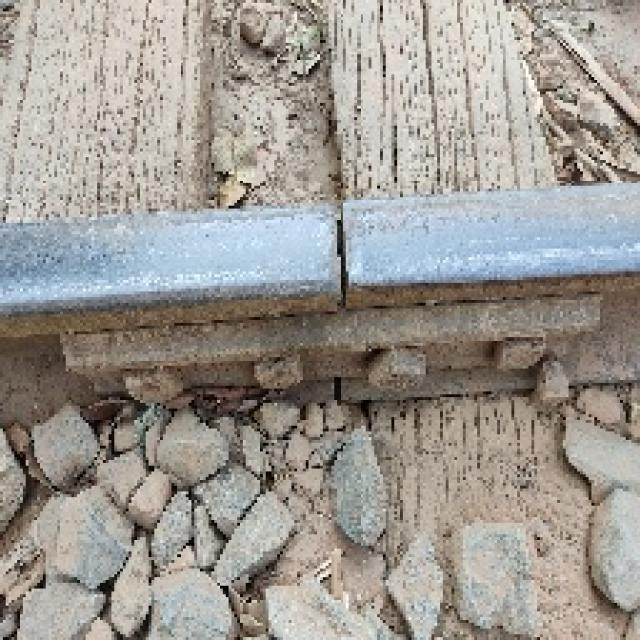Good Joint: (66, 294, 597, 400)
